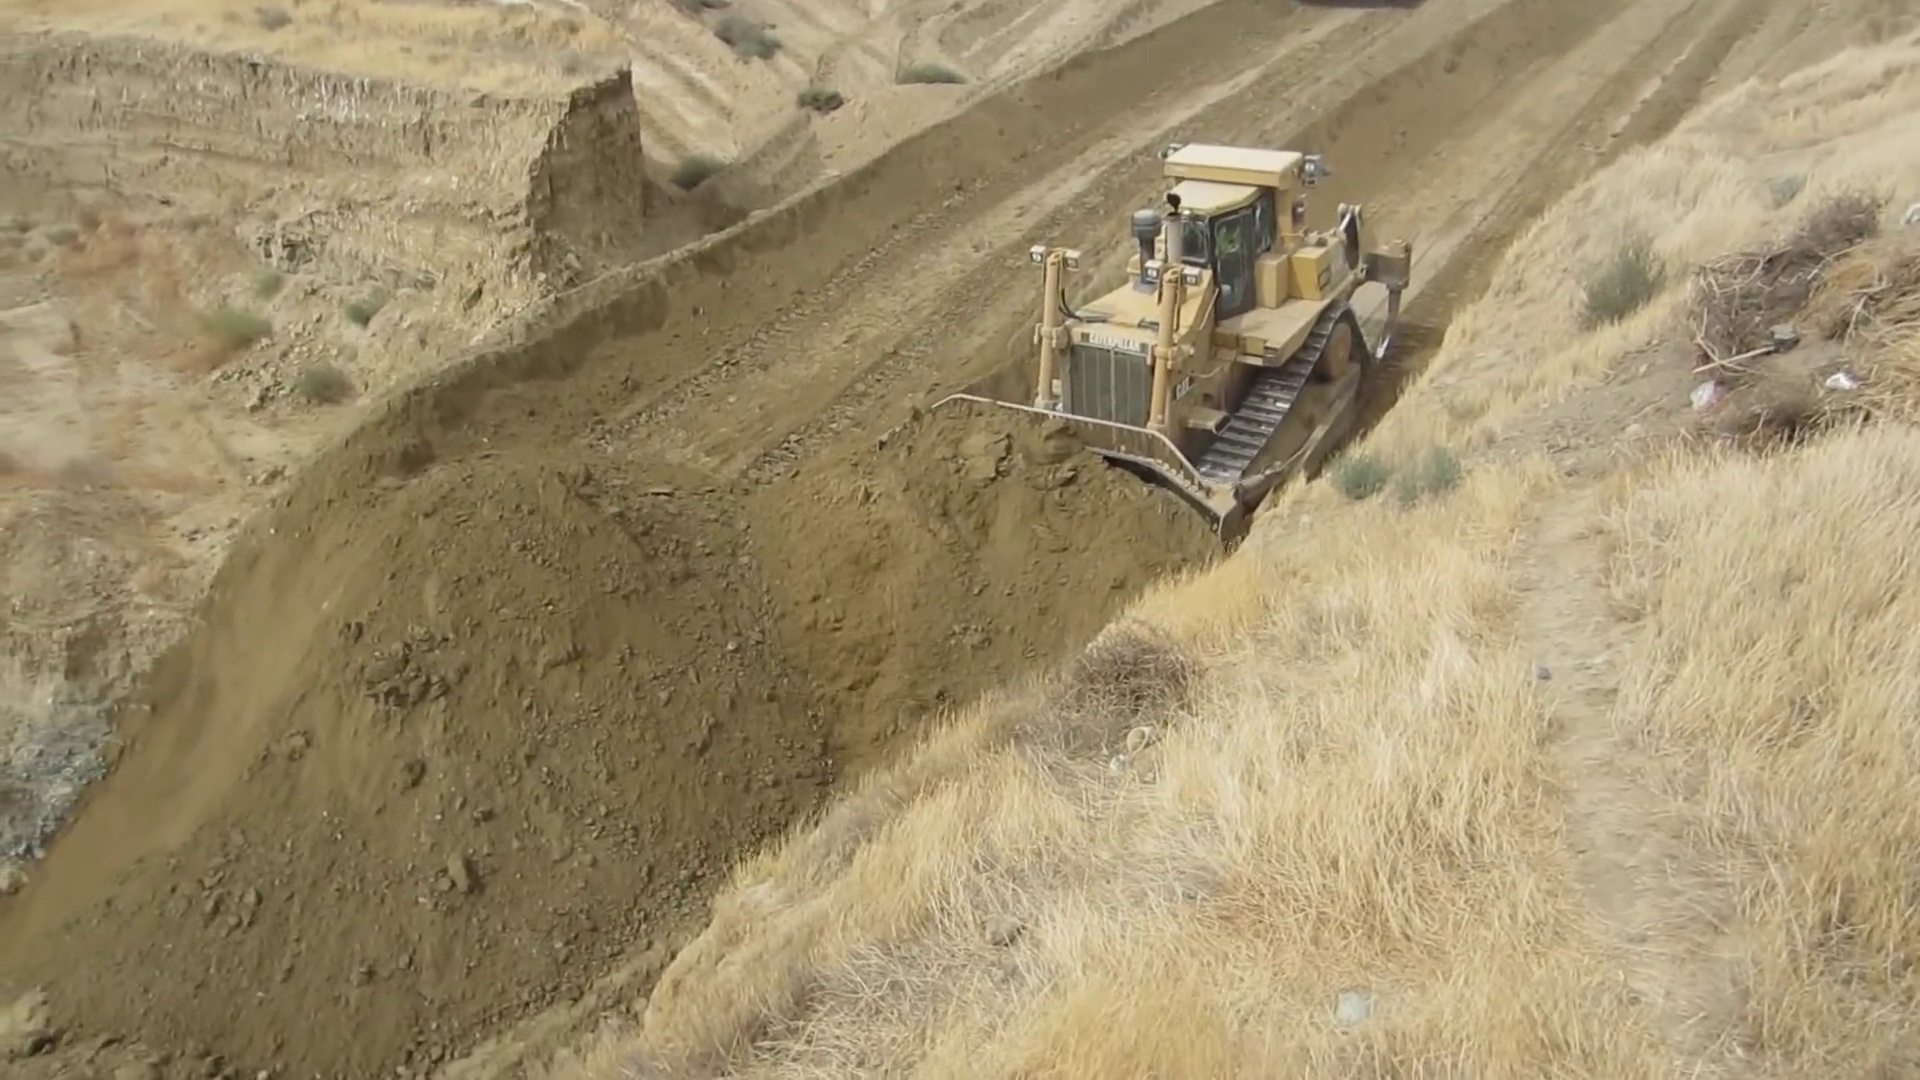bulldozer: (884, 138, 1414, 574)
